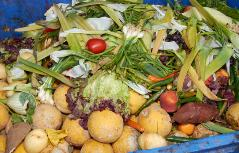organic: (66, 68, 136, 124), (105, 24, 148, 86), (1, 28, 37, 68), (90, 107, 125, 141), (175, 104, 221, 122), (139, 86, 163, 116), (160, 88, 184, 116), (83, 36, 111, 54)
